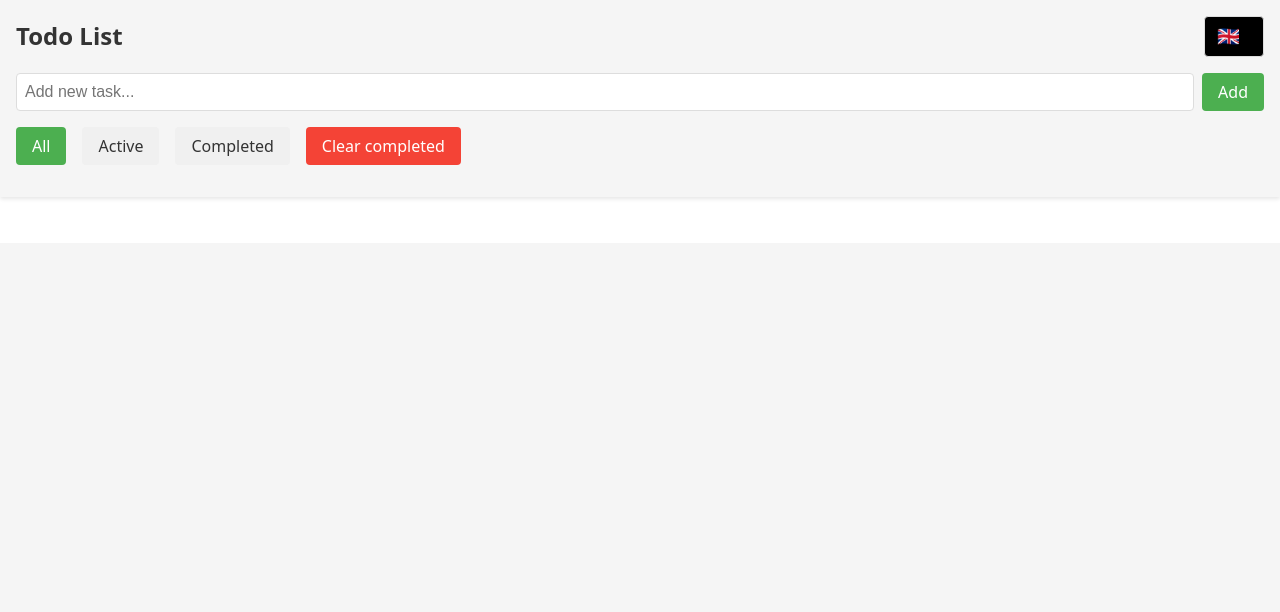
Test: TodoList › filters todos by status
Фильтруем по активным задачам
Click the button "Active": (121, 146) [82,127,160,165]
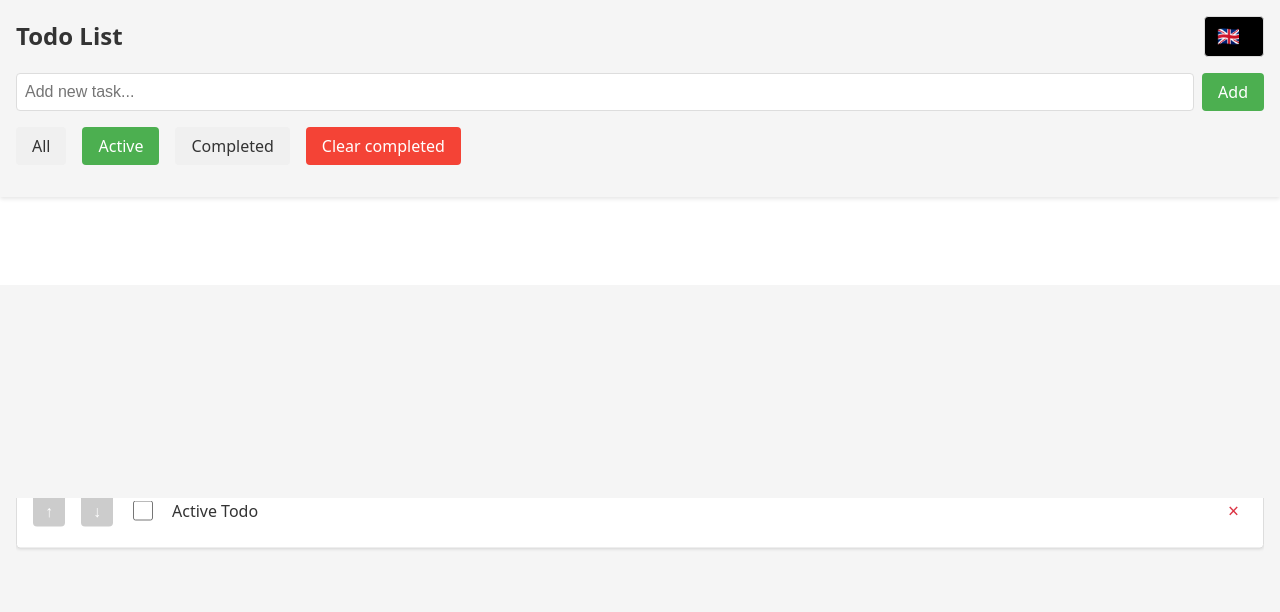
Expected: the text "Completed Todo" is not shown
Now the text "Active Todo" is shown, box [172,499,258,521]
Фильтруем по завершенным задачам
Click the button "Completed": (233, 146) [176,127,290,165]
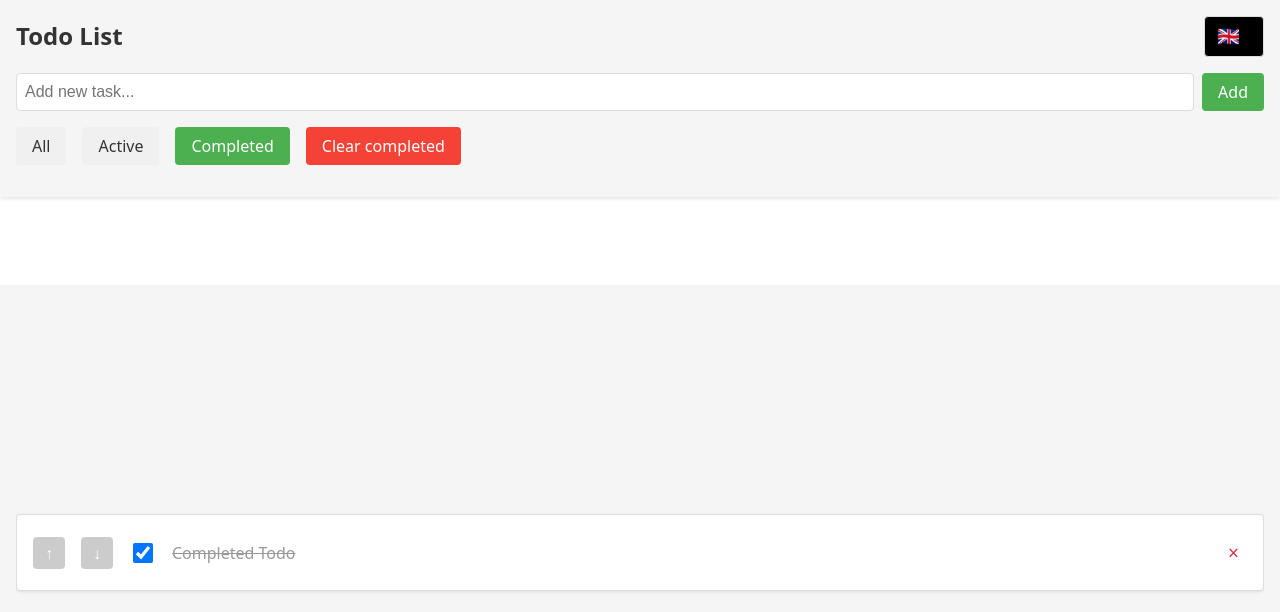
Now the text "Active Todo" is gone
Now the text "Completed Todo" is shown, box [172,542,296,564]
